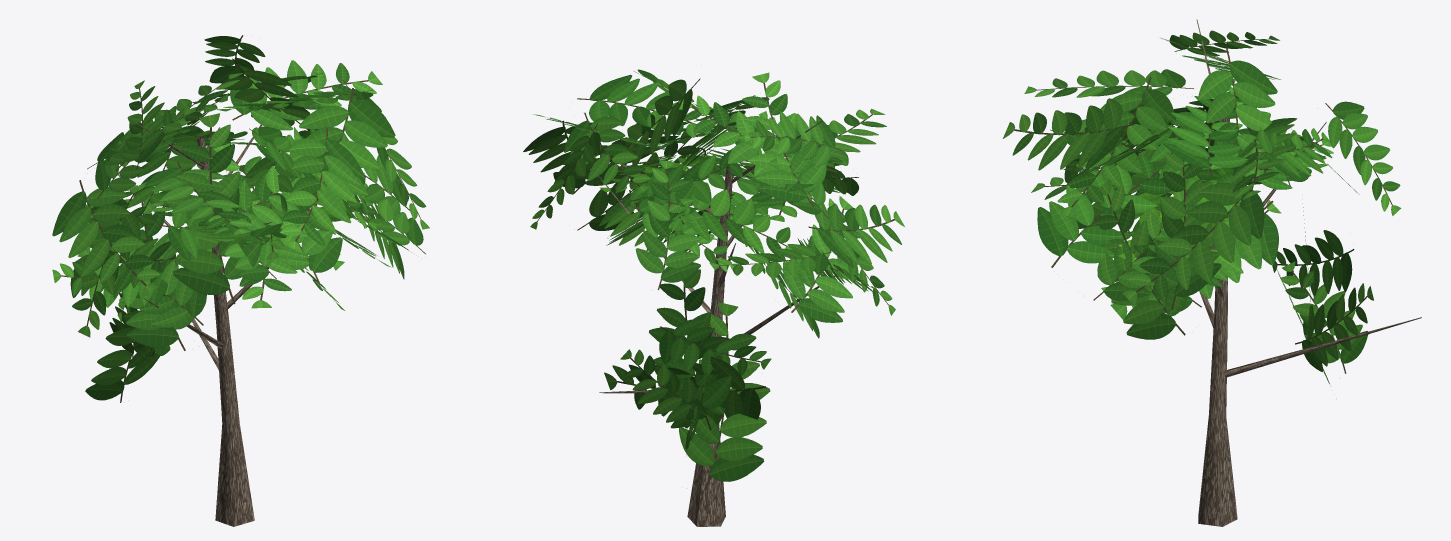
The model's file is media_a_lo.glb.
3 views of the same model, side by side, from view 1: azimuth 30°, elevation 25°; view 2: azimuth 150°, elevation 25°; view 3: azimuth 270°, elevation 25° (orthographic). The views are drawn at different scales.
Parts seen in each view (by area): view 1: media_a_lo; view 2: media_a_lo; view 3: media_a_lo.
Boxes of the visible parts, x1,y1,x2,y2 form: media_a_lo: [52, 35, 429, 526]; media_a_lo: [523, 69, 904, 526]; media_a_lo: [1002, 19, 1421, 526].
Bounding box in the file's own units: 8.93 × 9.96 × 8.38.
Materials: 2 (2 with a texture image).
